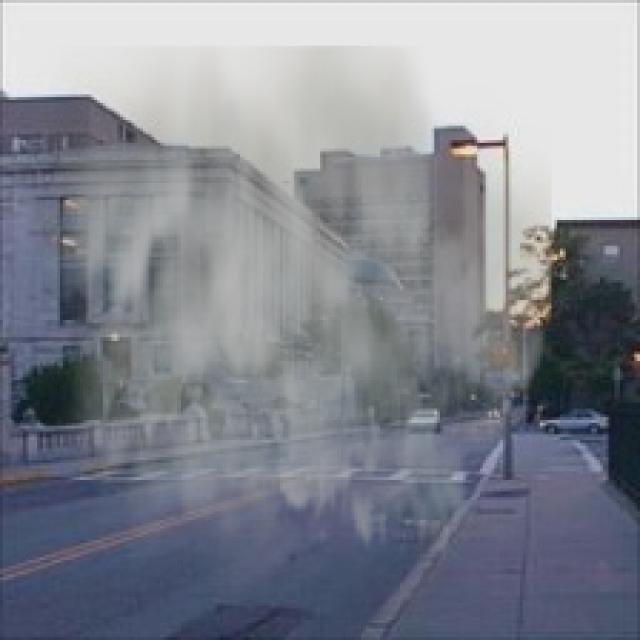smoke: (26, 46, 551, 611)
